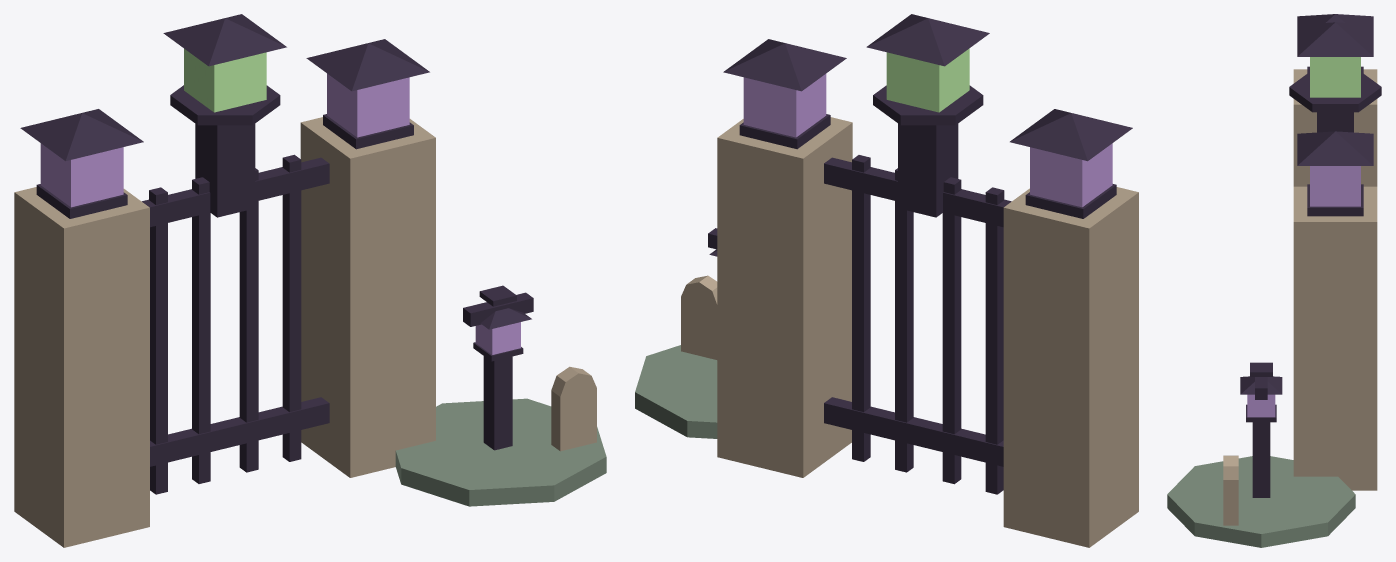
The model's file is graveyard-landmark-s2.glb.
The picture shows the model from 3 angles, left to right: view 1: azimuth 30°, elevation 25°; view 2: azimuth 150°, elevation 25°; view 3: azimuth 270°, elevation 25°; orthographic projection. The views are drawn at different scales.
Parts seen in each view (by area): view 1: graveyard-landmark-s2; view 2: graveyard-landmark-s2; view 3: graveyard-landmark-s2.
Boxes of the visible parts, x1=… form: graveyard-landmark-s2: x1=14, y1=14, x2=606, y2=547; graveyard-landmark-s2: x1=635, y1=14, x2=1138, y2=547; graveyard-landmark-s2: x1=1167, y1=14, x2=1381, y2=547.
Size of the model in its own units: 1.07 by 0.934 by 0.4635.
